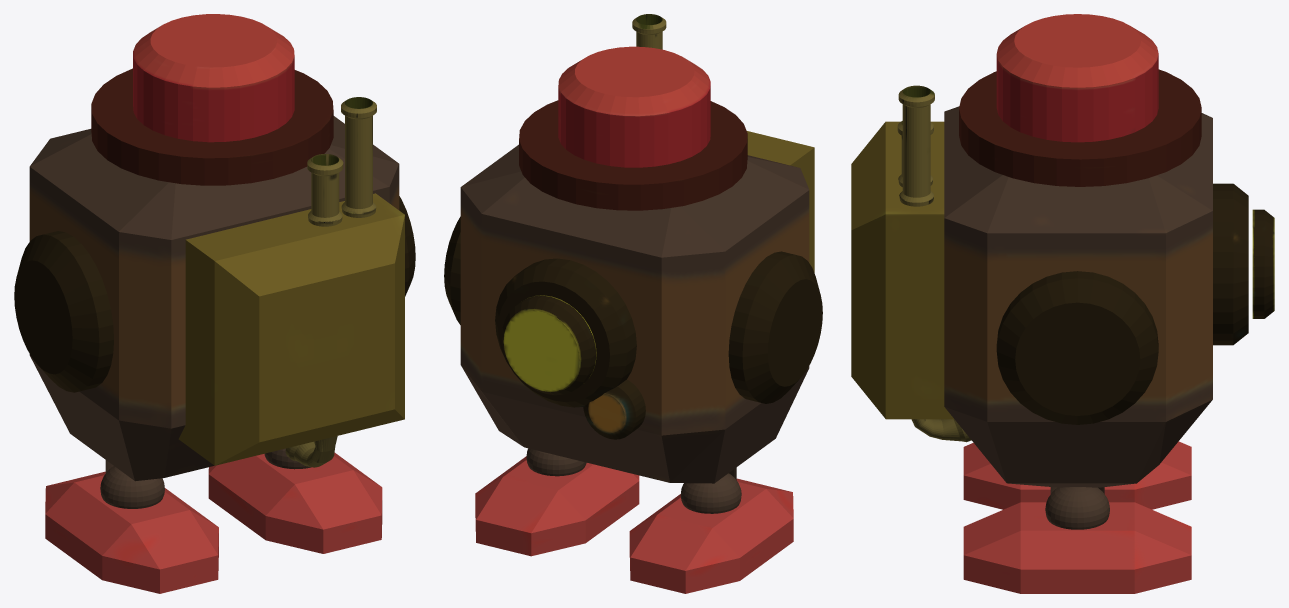
The model's file is robot.obj.
The picture shows the model from 3 angles, left to right: view 1: azimuth 30°, elevation 25°; view 2: azimuth 150°, elevation 25°; view 3: azimuth 270°, elevation 25°; orthographic projection. The views are drawn at different scales.
Parts seen in each view (by area): view 1: Robot.005_Robot; view 2: Robot.005_Robot; view 3: Robot.005_Robot.
Part boxes in pixels (left/top/right/bottom): Robot.005_Robot: left=14, top=14, right=415, bottom=593; Robot.005_Robot: left=444, top=14, right=822, bottom=593; Robot.005_Robot: left=851, top=14, right=1274, bottom=593.
Bounding box in the file's own units: 1.46 × 1.98 × 1.57.
5 materials, 5 textured.
